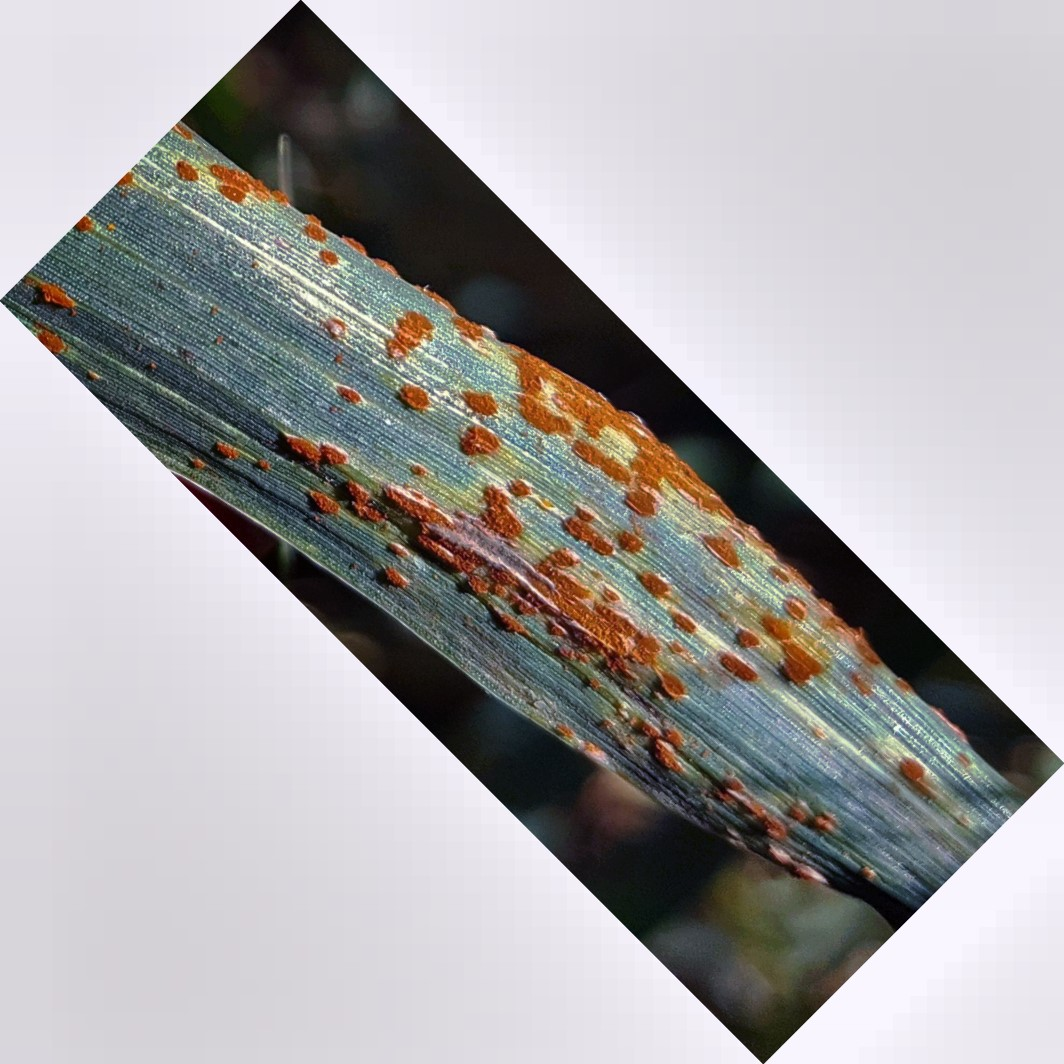Leaf Rust: (238, 259, 830, 804)
